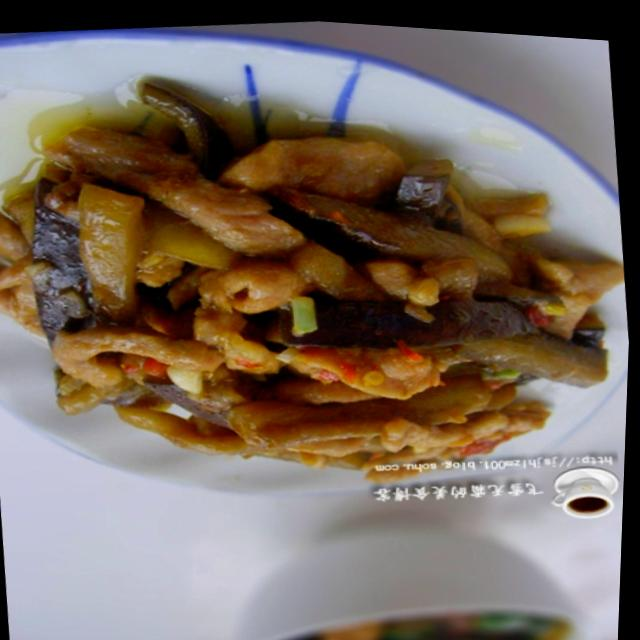鸡蛋料理: (3, 13, 640, 625)
